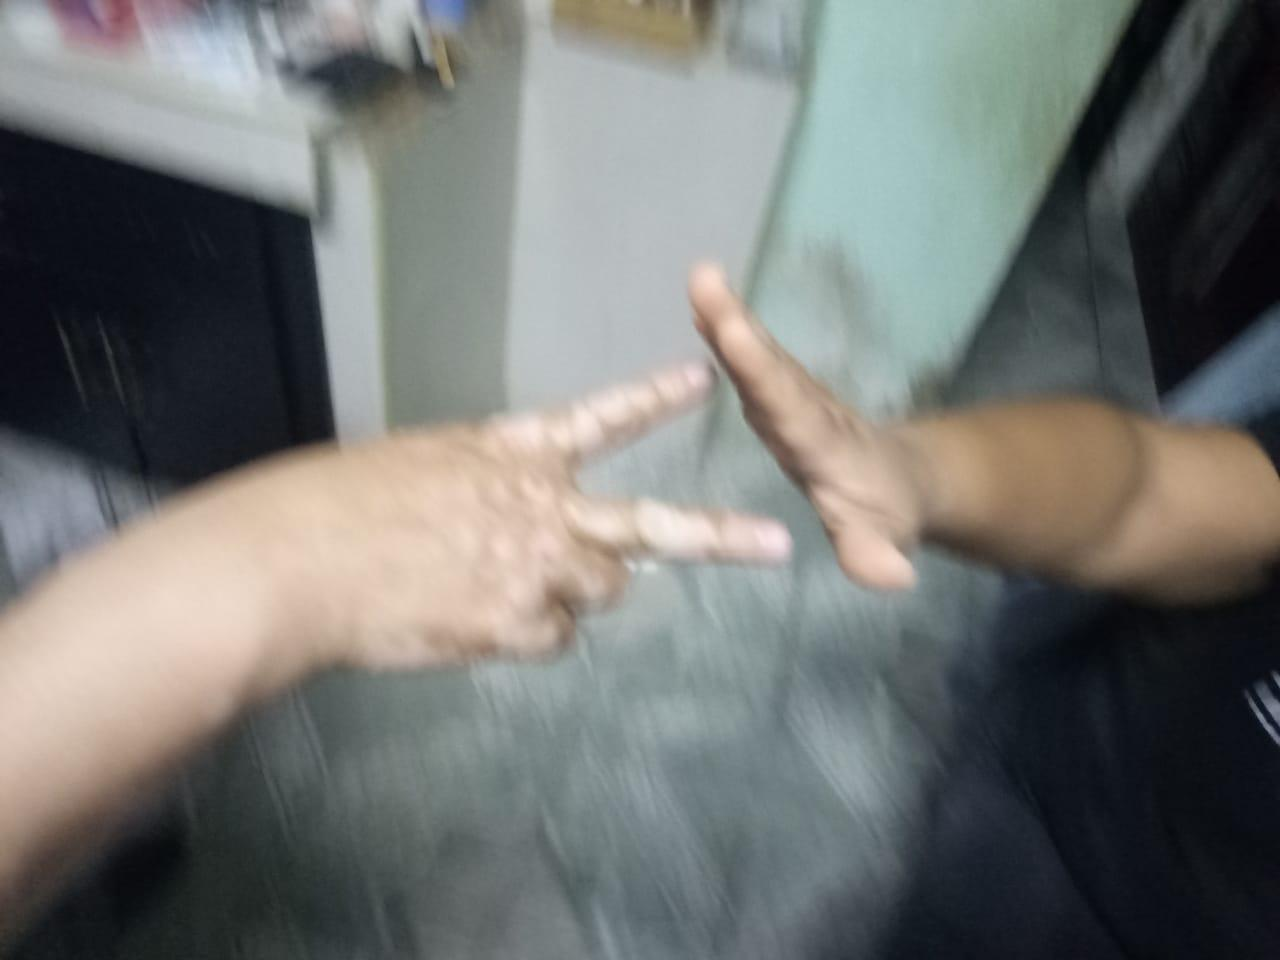Paper: (688, 264, 1280, 612)
Scissor: (0, 361, 793, 953)
